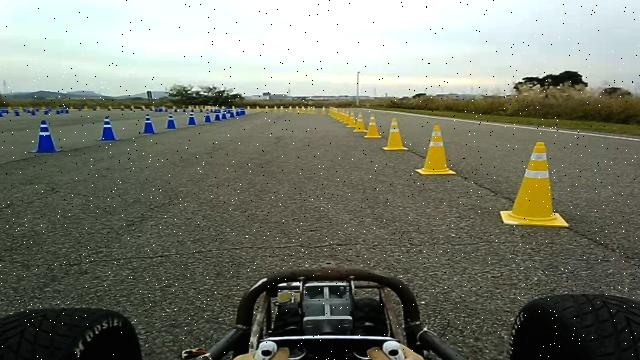blue cone: (28, 120, 62, 154), (97, 115, 119, 141), (140, 114, 157, 134), (165, 113, 177, 129), (186, 110, 196, 125), (212, 108, 222, 120), (203, 110, 212, 123)
yellow cone: (499, 141, 569, 227), (414, 124, 457, 176), (381, 117, 408, 150), (364, 115, 382, 138), (352, 113, 367, 132), (345, 109, 356, 128)
